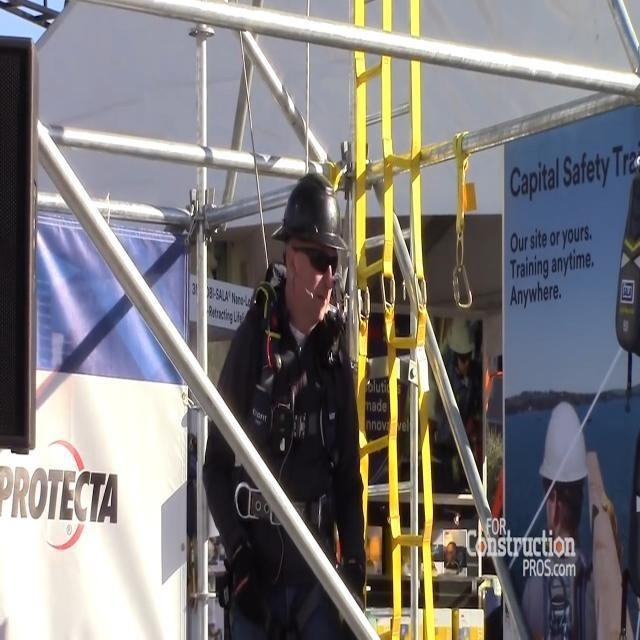Arnes_seguridad: (220, 266, 353, 640)
